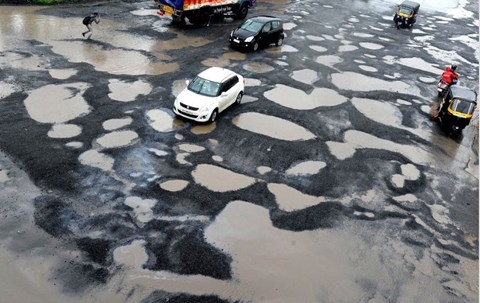pothole: (188, 198, 383, 301), (259, 62, 337, 112), (330, 64, 412, 105), (20, 82, 88, 131), (58, 51, 178, 78), (17, 87, 98, 127), (183, 161, 252, 197), (224, 114, 322, 131), (117, 189, 163, 220), (92, 125, 145, 147), (349, 32, 387, 53), (374, 29, 393, 43), (299, 46, 328, 54)
